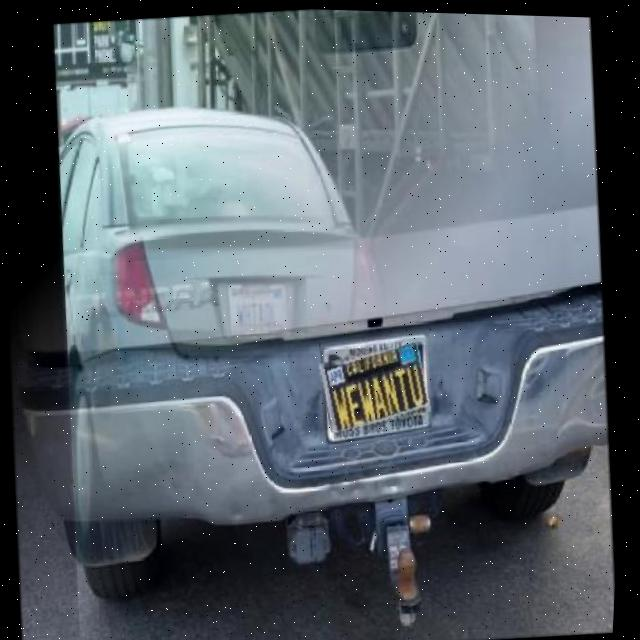LicensePlate: (320, 339, 436, 430)
